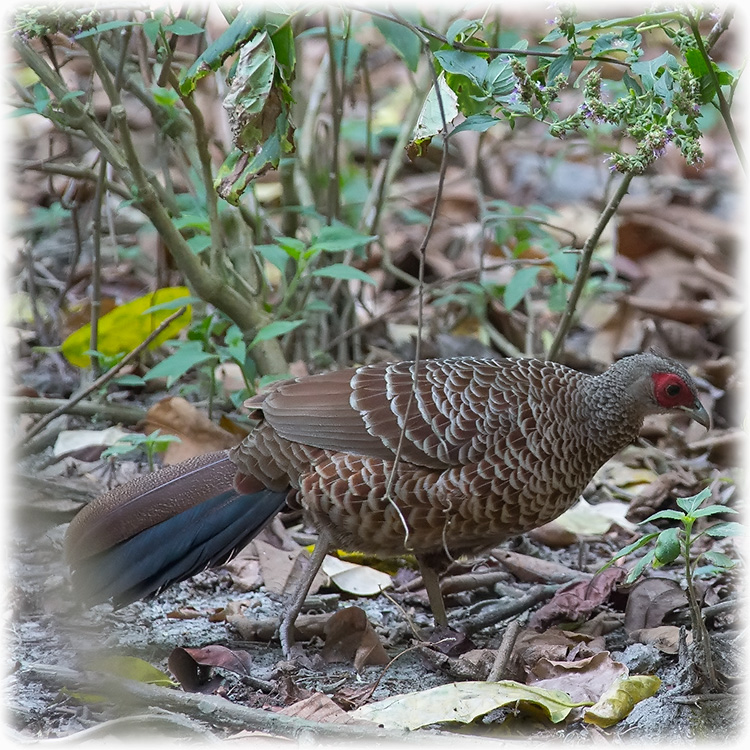bird: (68, 337, 715, 678)
